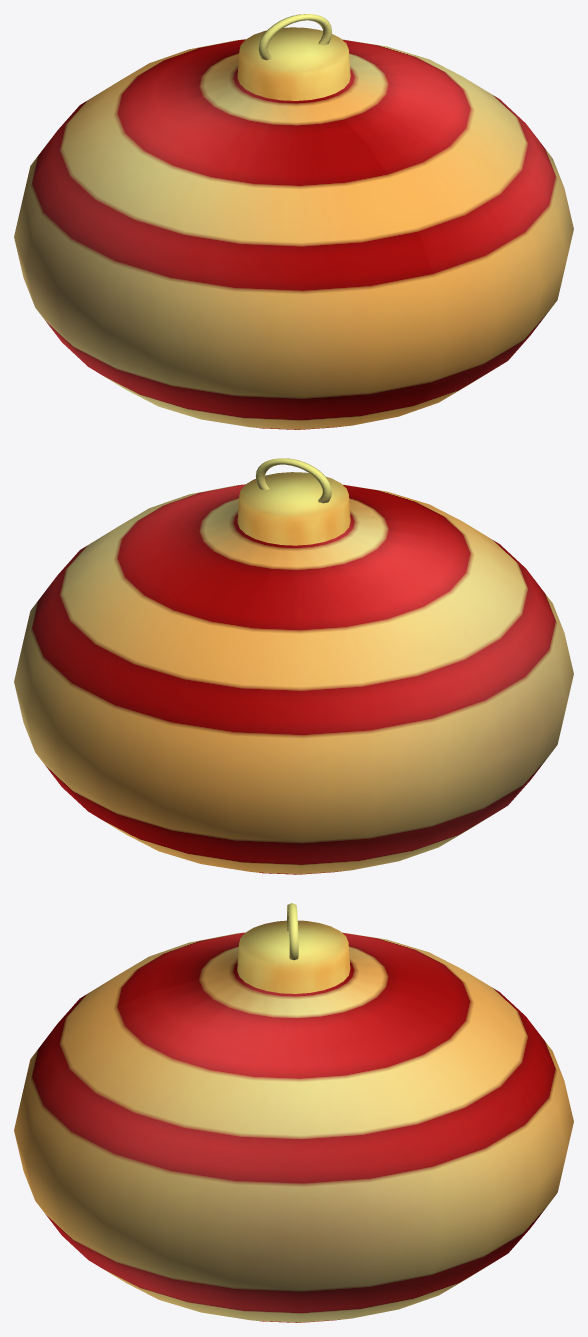
The picture shows the model from 3 angles, top to bottom: view 1: azimuth 30°, elevation 25°; view 2: azimuth 150°, elevation 25°; view 3: azimuth 270°, elevation 25°; orthographic projection.
Parts seen in each view (by area): view 1: V5 Christmas Collection2.6_V5 Christmas Collection2_0.001; view 2: V5 Christmas Collection2.6_V5 Christmas Collection2_0.001; view 3: V5 Christmas Collection2.6_V5 Christmas Collection2_0.001.
Part boxes in pixels (x1=…): V5 Christmas Collection2.6_V5 Christmas Collection2_0.001: x1=14, y1=14, x2=573, y2=429; V5 Christmas Collection2.6_V5 Christmas Collection2_0.001: x1=14, y1=458, x2=573, y2=874; V5 Christmas Collection2.6_V5 Christmas Collection2_0.001: x1=14, y1=903, x2=573, y2=1322.
Bounding box in the file's own units: 9.64 × 7.15 × 9.64.
1 material, 1 textured.
